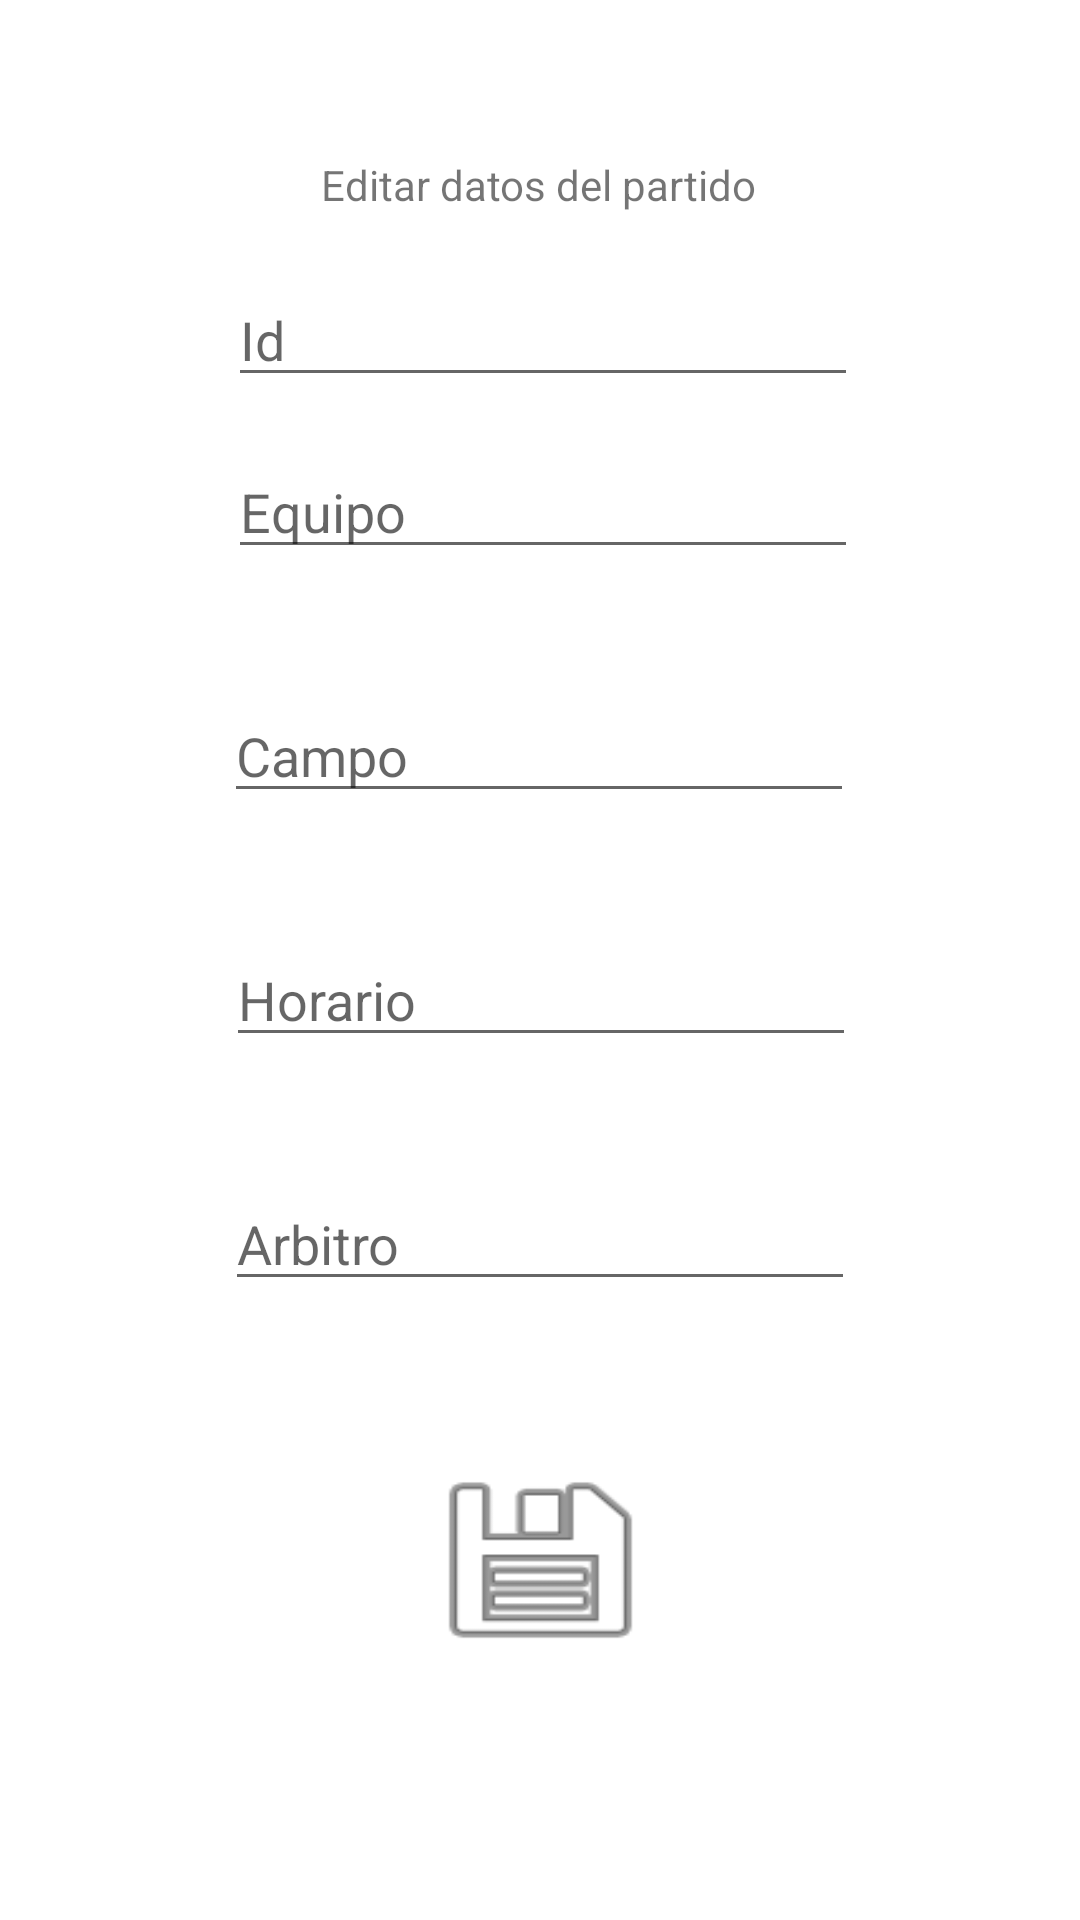

Named icons in this screenshot (1080px×1920px) and their bounding boxes, (x1, y1, x2, y2):
save: (449, 1482, 632, 1638)
